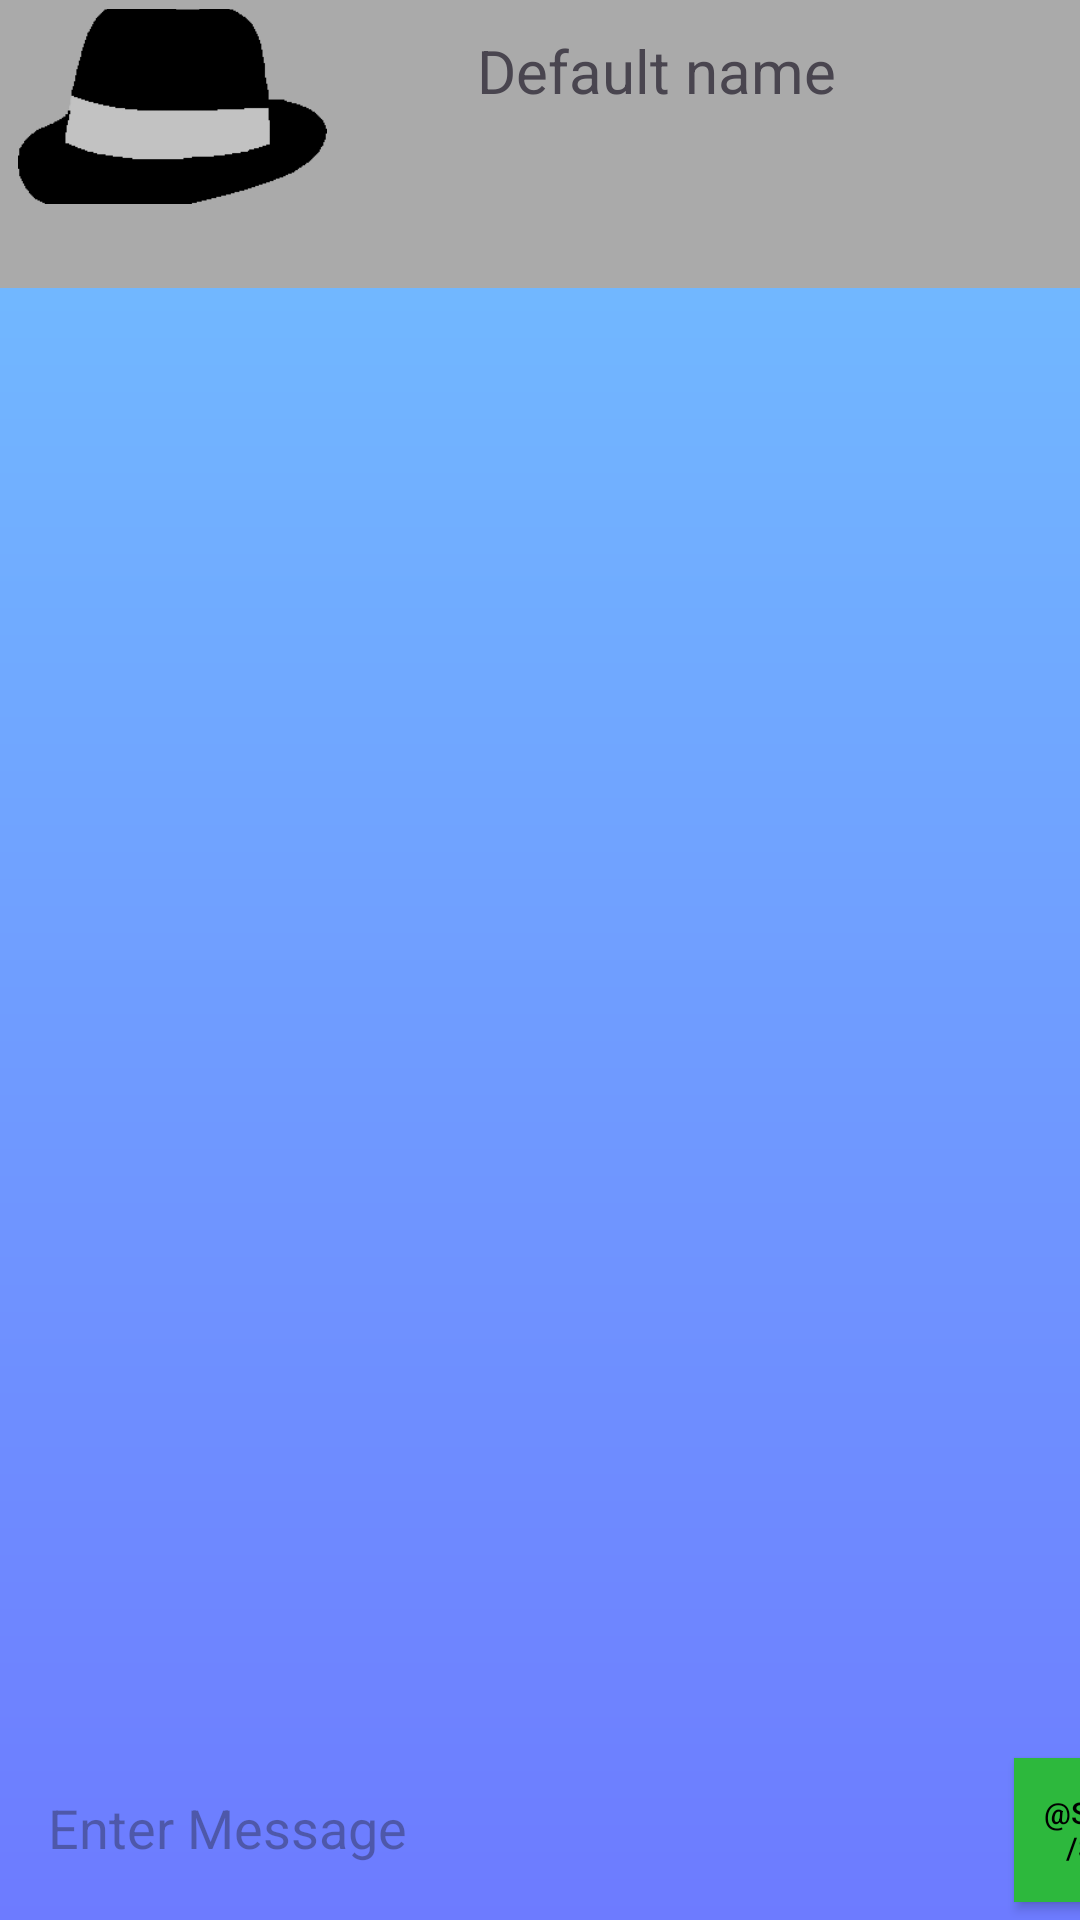

Icon click points for this 1080×1920 phone screenshot, format (x=x, y=y):
haticon: (x=172, y=106)
